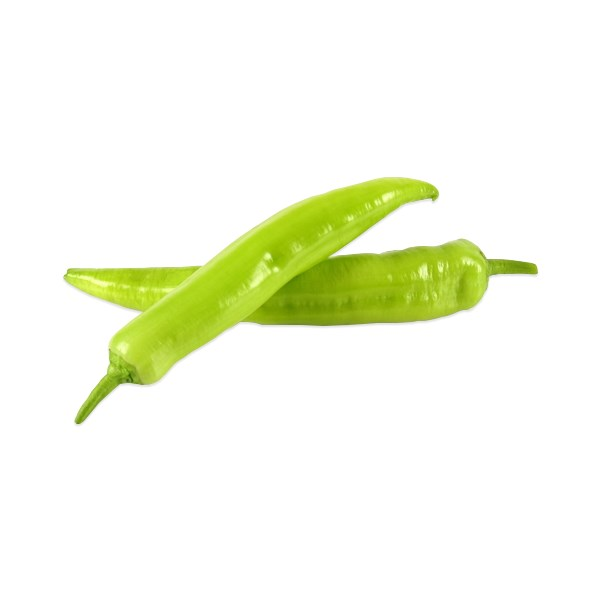Pepper: (47, 172, 446, 430), (48, 240, 535, 333)
